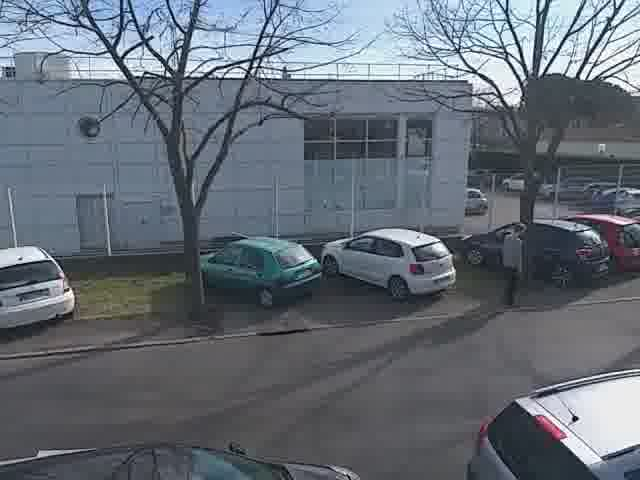persona: (493, 217, 532, 310)
